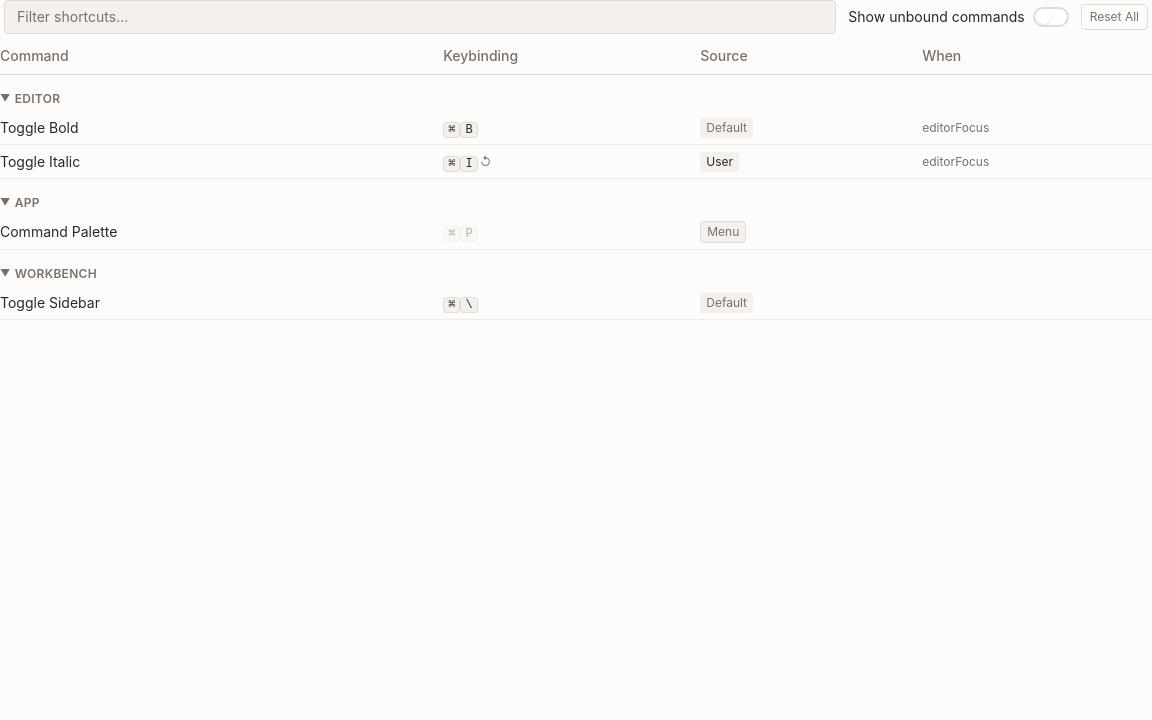
KeyboardShortcutsPanel › recording a conflicting key shows ConflictResolutionDialog
Check: the row "Toggle Italic ⌘I ↺ User editorFocus" is shown, box [0, 144, 1151, 178]
Click the element showing "⌘I" at (460, 162), box [443, 152, 478, 172]
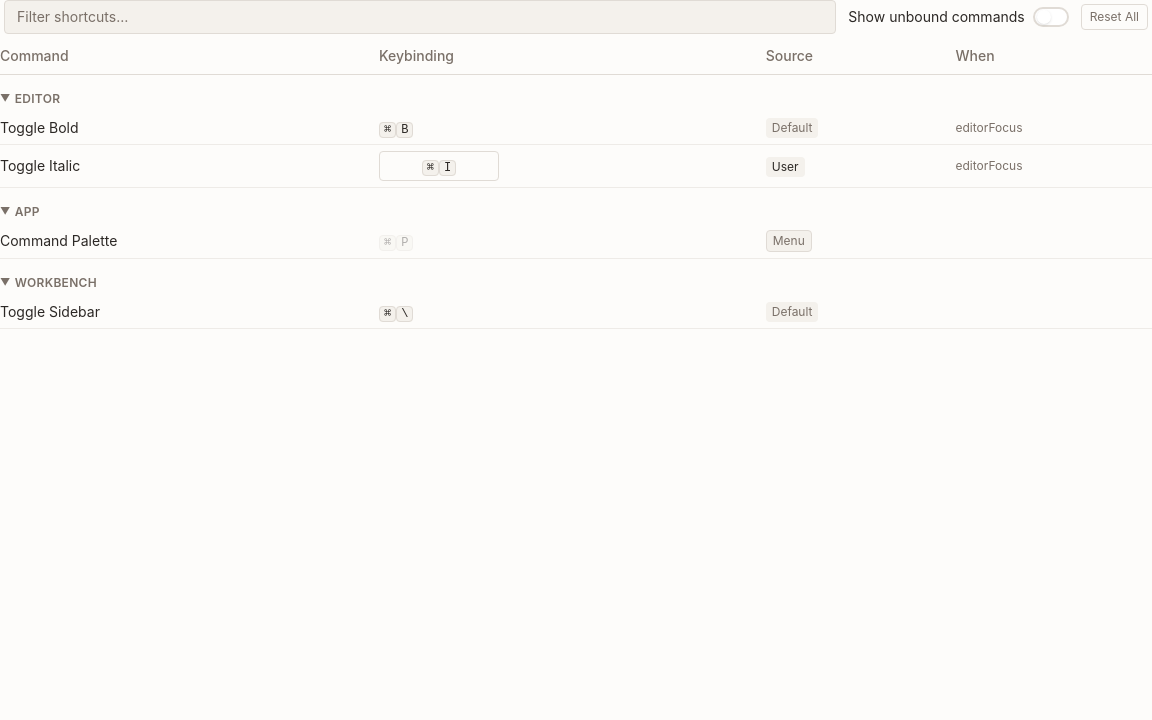
Click the element with test id "key-recorder" at (439, 166), box [379, 151, 499, 181]
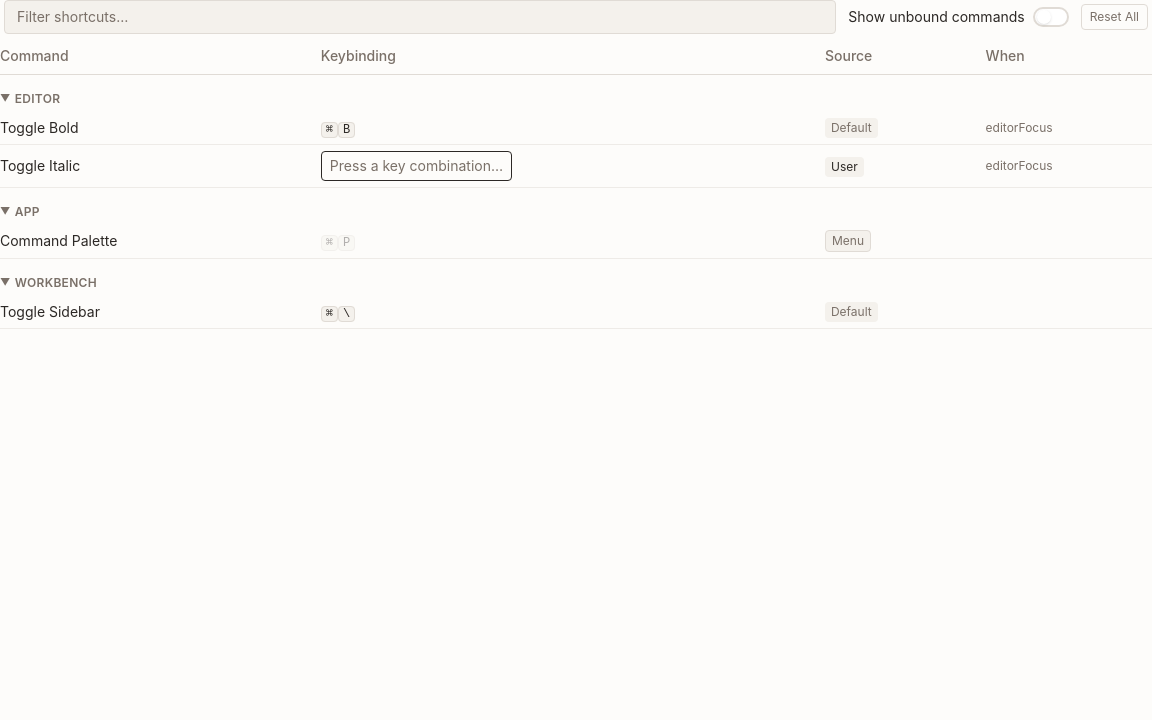
Press b in the element with test id "key-recorder", box [321, 151, 512, 181]
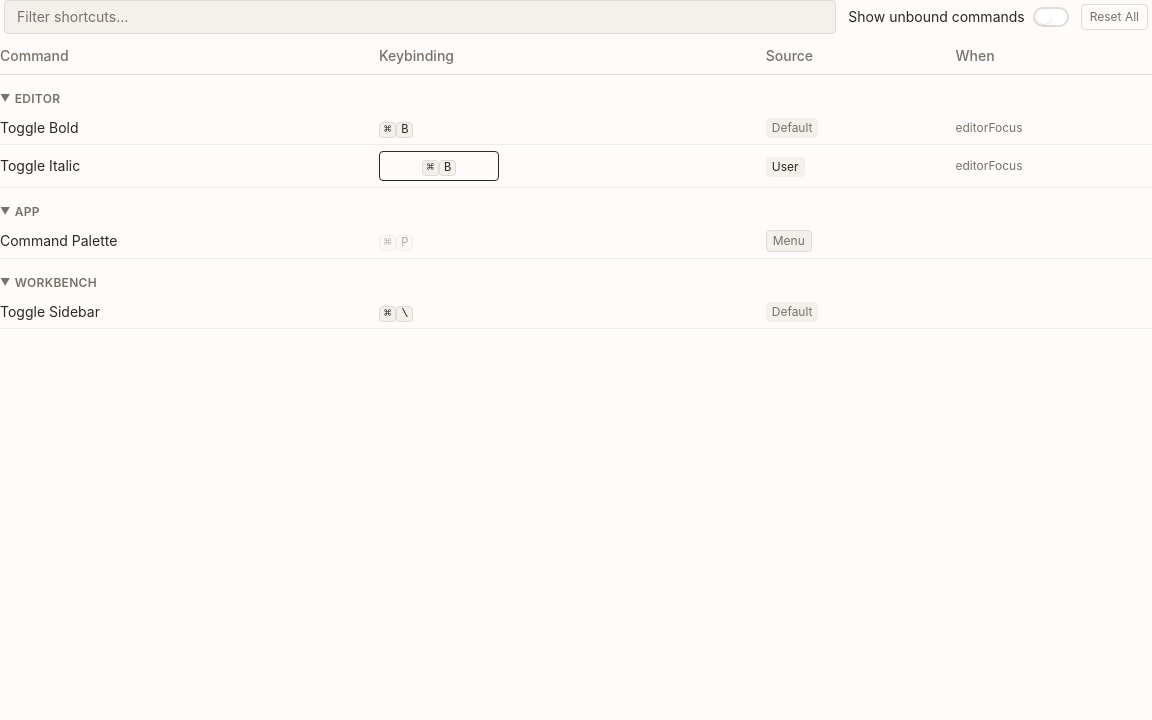
Press Enter in the element with test id "key-recorder", box [379, 151, 499, 181]
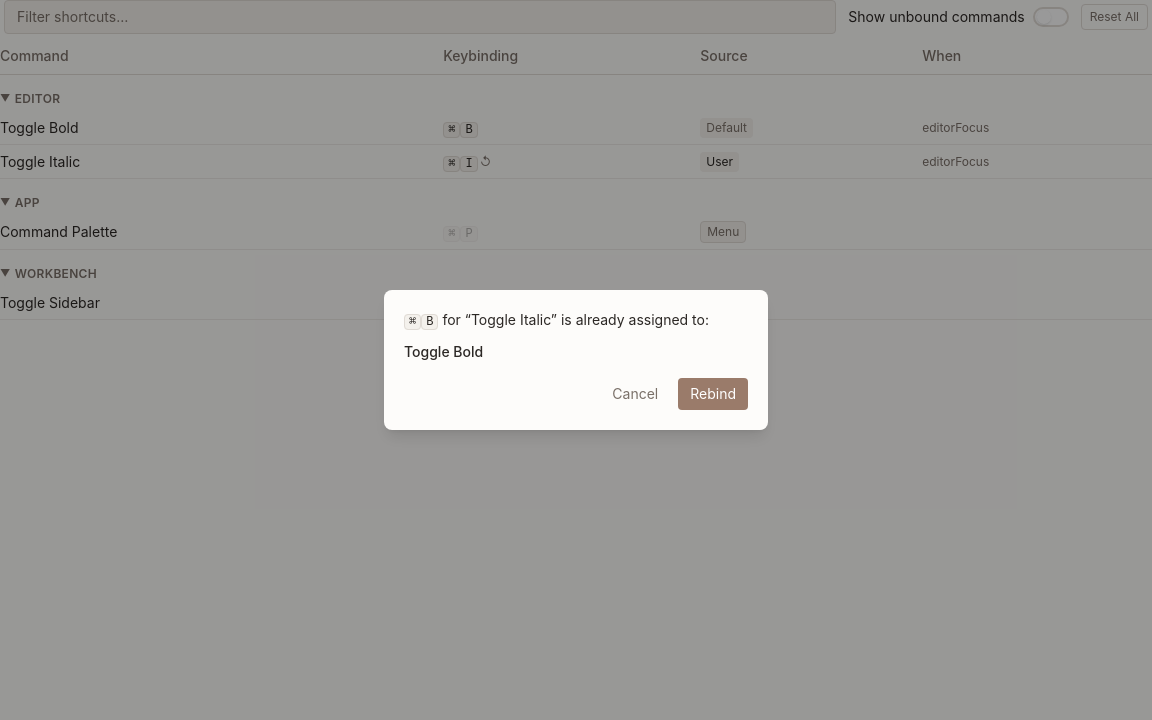
Check: the element with test id "conflict-dialog-backdrop" is shown
Check: the element with test id "conflict-dialog" shows "Toggle Bold", box [404, 343, 483, 360]
